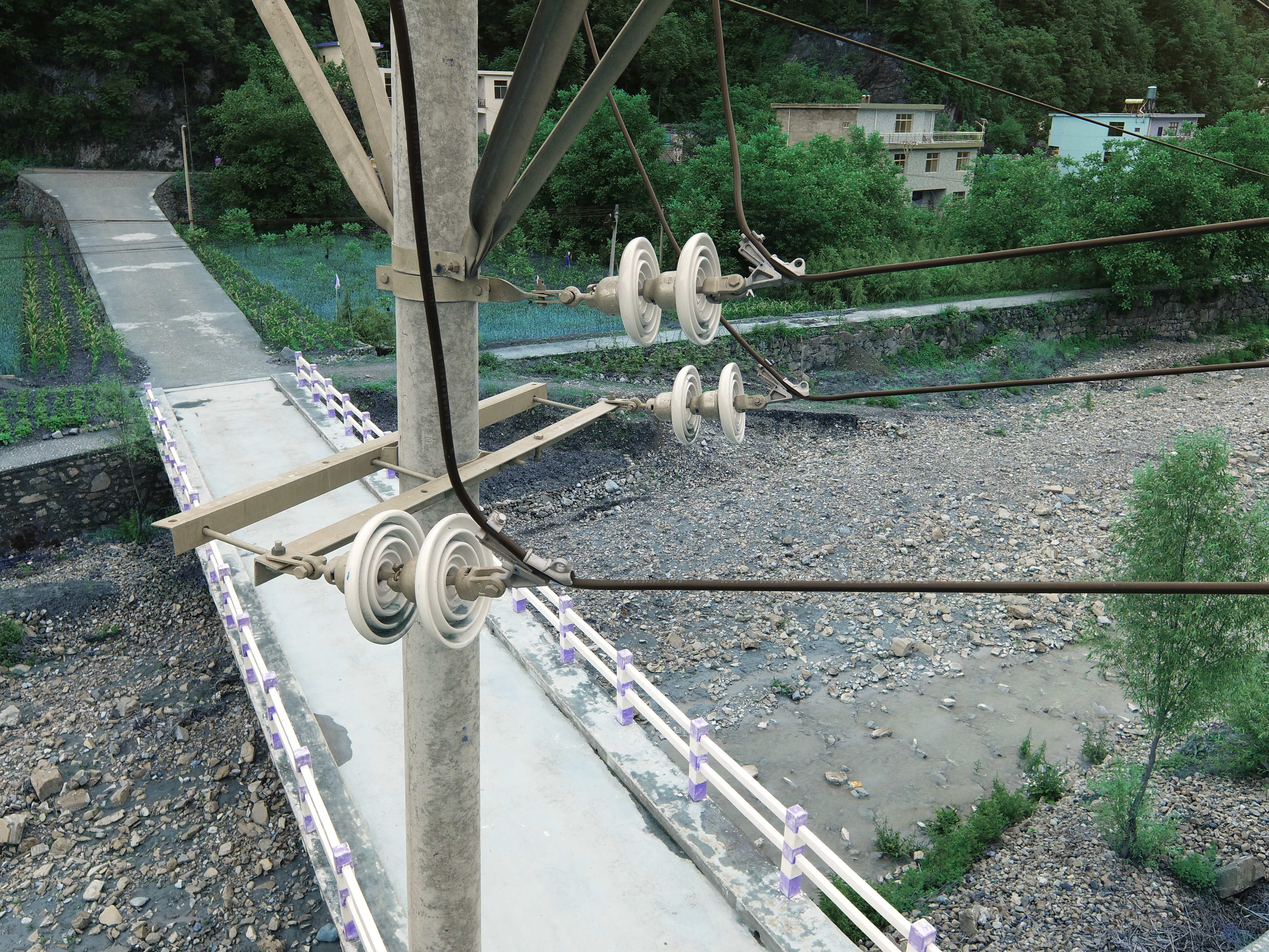severe_soiling_no_discharge_whole: (327, 504, 498, 656)
